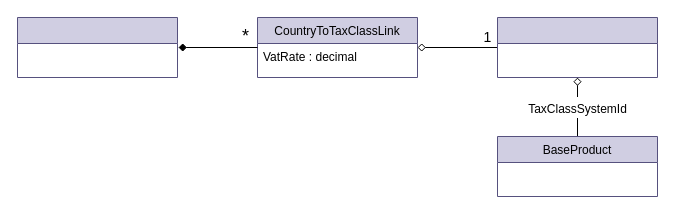
The diagram is 675 pixels wide and 214 high, and some of its shapes have lost their labels. Each missing label, with the box of its shape:
Country: (16, 16, 178, 78)
TaxClass: (496, 16, 658, 78)
